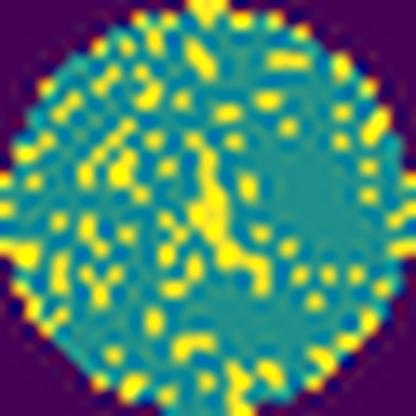Center: (153, 126, 275, 298)
